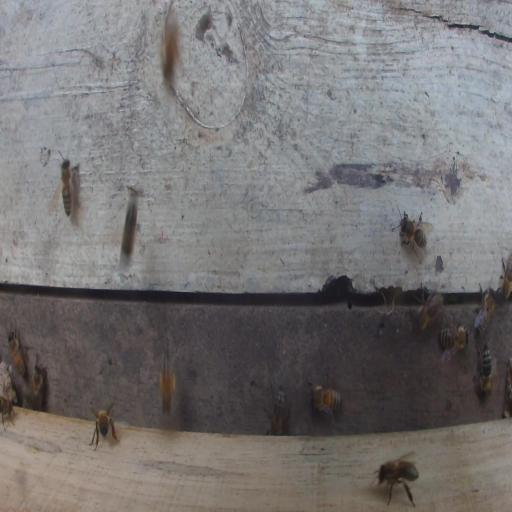bee: (372, 452, 419, 507), (391, 207, 430, 260), (51, 148, 79, 218), (88, 402, 119, 449), (308, 381, 343, 420), (472, 281, 497, 335), (414, 286, 443, 332), (158, 347, 177, 415), (438, 322, 469, 363), (163, 10, 181, 78), (266, 383, 288, 435), (121, 194, 138, 260), (7, 327, 27, 379), (477, 340, 492, 393), (30, 357, 45, 407), (498, 253, 512, 300), (1, 366, 17, 405), (15, 402, 16, 403)
